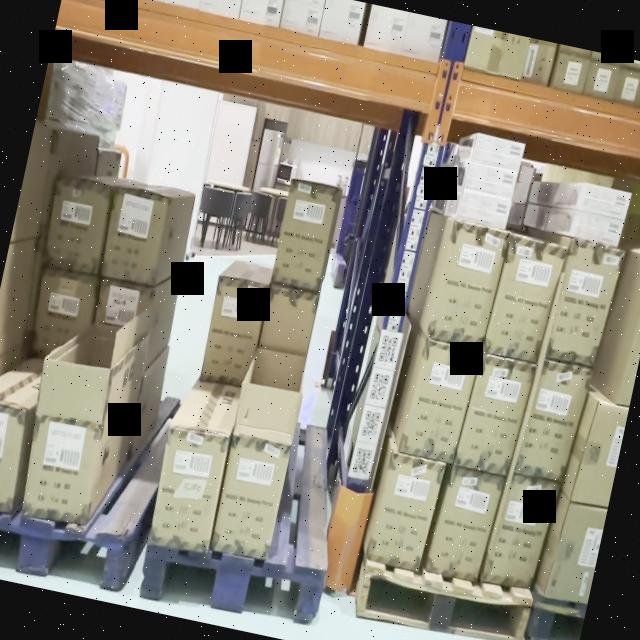box: (147, 428, 228, 550), (212, 433, 290, 559), (430, 220, 508, 346), (484, 236, 560, 362), (23, 416, 102, 527), (458, 356, 532, 474), (404, 341, 474, 464), (548, 242, 616, 366), (371, 453, 442, 568), (520, 360, 585, 482), (431, 468, 497, 580), (488, 476, 552, 588), (41, 176, 113, 274), (272, 182, 337, 290), (199, 277, 265, 383), (102, 188, 166, 282), (0, 401, 23, 508), (457, 192, 510, 228), (473, 134, 524, 170), (464, 163, 516, 197), (578, 185, 629, 219), (571, 211, 622, 245)
